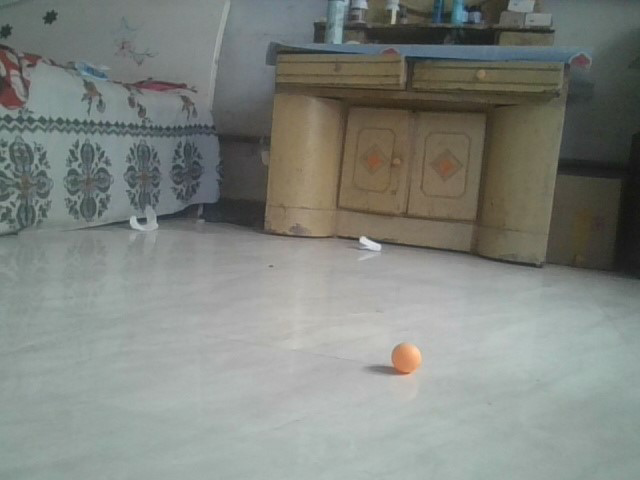ball: (391, 342, 423, 373)
